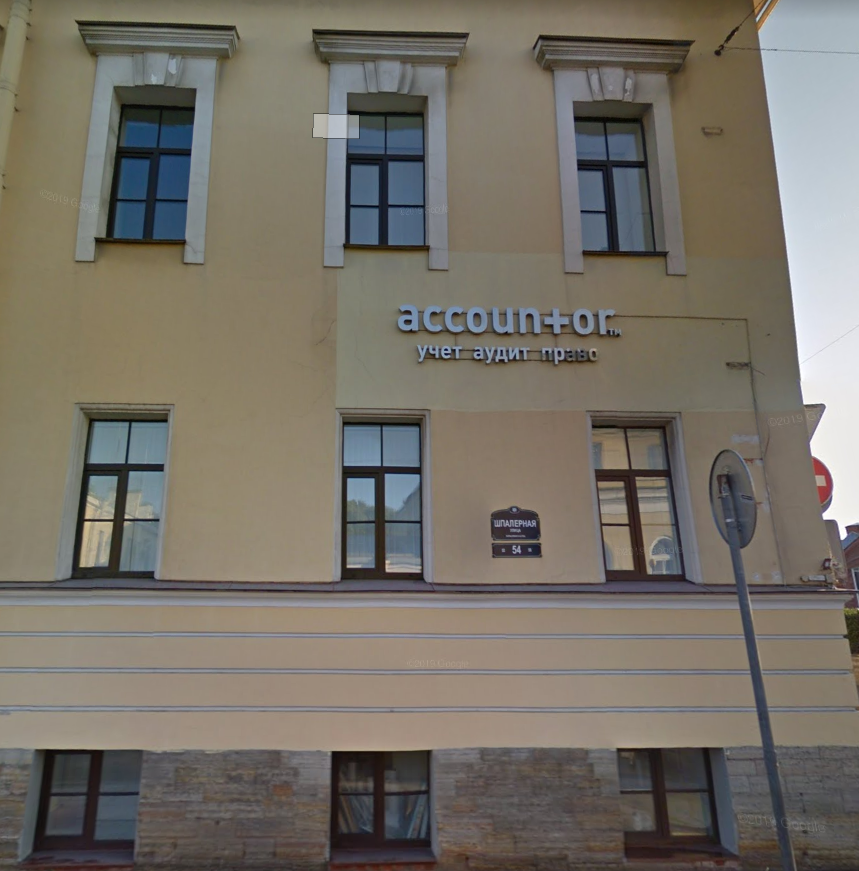signboard: (384, 298, 625, 373)
window: (70, 411, 171, 576), (592, 415, 673, 589), (338, 415, 423, 579), (108, 94, 194, 238), (342, 109, 426, 245), (35, 753, 144, 843), (578, 116, 648, 248), (617, 753, 711, 851), (335, 759, 431, 851)
